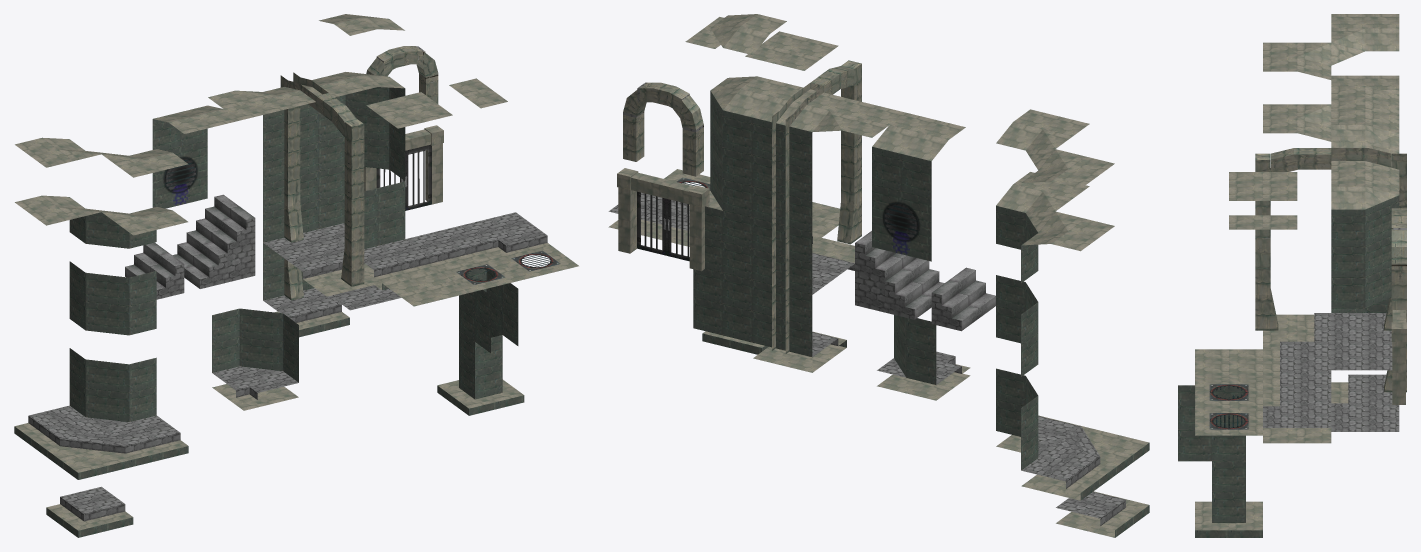
The model's file is SewerInterior_Tileset.fbx.
3 views of the same model, side by side, from view 1: azimuth 30°, elevation 25°; view 2: azimuth 150°, elevation 25°; view 3: azimuth 270°, elevation 25° (orthographic). The views are drawn at different scales.
Visible parts, largest first — view 1: sewerWalkway_cornerInside_walls, sewerWall_walkway_cornerOutsideR, stone2x2Stairs, sewerPillar_floor, sewerWall_walkway, sewerWall_walkway_cornerOutsideL, sewerPillar_walkway, sewerWall_cornerInside, sewerDrain_hole3Walls, sewerPillar_wall, sewerWall_cornerOutsideR, sewerWalkway_cornerOutside90 (+31 smaller); view 2: sewerPillar_walkway, stone2x2Stairs, sewerPillar_archWall, sewerWall_ceiling, sewerWalkway_cornerInside_walls, sewerWall_walkway_cornerOutsideL, sewerPillar_floor, stoneDoorFrame, sewerTunnel_Opening, sewerPillar_wall, sewerDrain_Wall, sewerWall_floor (+26 smaller); view 3: sewerWall_ceilingCornerInside, sewerWall_cornerInside, sewerDrain_hole3Walls, sewerWalkway_cornerInside_noWall, sewerCeiling_cornerOutsideLeft, sewerCeiling_cornerOutsideRight, sewerPillar_archWall, sewerCeiling_cornerInside, sewerWall_ceilingCornerOutsideR, sewerDrain_holeFullWalls, sewerWall_walkway, sewerWalkway_noWall (+20 smaller).
Part boxes in pixels (x1=…): sewerWalkway_cornerInside_walls: x1=212, y1=308, x2=298, y2=410; sewerWall_walkway_cornerOutsideR: x1=101, y1=357, x2=188, y2=466; stone2x2Stairs: x1=172, y1=194, x2=255, y2=288; sewerPillar_floor: x1=263, y1=171, x2=344, y2=265; sewerWall_walkway: x1=364, y1=181, x2=436, y2=290; sewerWall_walkway_cornerOutsideL: x1=14, y1=348, x2=107, y2=456; sewerPillar_walkway: x1=263, y1=243, x2=349, y2=337; sewerWall_cornerInside: x1=318, y1=107, x2=405, y2=180; sewerDrain_hole3Walls: x1=459, y1=268, x2=518, y2=352; sewerPillar_wall: x1=263, y1=114, x2=318, y2=184; sewerWall_cornerOutsideR: x1=107, y1=271, x2=156, y2=335; sewerWalkway_cornerOutside90: x1=46, y1=486, x2=133, y2=537; sewerPillar_walkway: x1=753, y1=280, x2=846, y2=372; stone2x2Stairs: x1=855, y1=231, x2=944, y2=319; sewerPillar_archWall: x1=753, y1=83, x2=846, y2=169; sewerWall_ceiling: x1=872, y1=113, x2=965, y2=198; sewerWalkway_cornerInside_walls: x1=877, y1=315, x2=970, y2=400; sewerWall_walkway_cornerOutsideL: x1=1021, y1=386, x2=1114, y2=500; sewerPillar_floor: x1=753, y1=218, x2=846, y2=294; stoneDoorFrame: x1=617, y1=168, x2=709, y2=271; sewerTunnel_Opening: x1=623, y1=82, x2=703, y2=176; sewerPillar_wall: x1=753, y1=155, x2=812, y2=232; sewerDrain_Wall: x1=872, y1=184, x2=931, y2=261; sewerWall_floor: x1=693, y1=268, x2=752, y2=342; sewerWall_ceilingCornerInside: x1=1331, y1=172, x2=1399, y2=246; sewerWall_cornerInside: x1=1331, y1=236, x2=1391, y2=308; sewerDrain_hole3Walls: x1=1178, y1=385, x2=1245, y2=461; sewerWalkway_cornerInside_noWall: x1=1263, y1=399, x2=1331, y2=443; sewerCeiling_cornerOutsideLeft: x1=1331, y1=14, x2=1399, y2=58; sewerCeiling_cornerOutsideRight: x1=1263, y1=42, x2=1347, y2=79; sewerPillar_archWall: x1=1331, y1=145, x2=1406, y2=207; sewerCeiling_cornerInside: x1=1331, y1=110, x2=1399, y2=147; sewerWall_ceilingCornerOutsideR: x1=1263, y1=104, x2=1331, y2=141; sewerDrain_holeFullWalls: x1=1212, y1=461, x2=1245, y2=522; sewerWall_walkway: x1=1263, y1=341, x2=1331, y2=378; sewerWalkway_noWall: x1=1263, y1=370, x2=1331, y2=406.
Size of the model in its own units: 1700 by 1400 by 673.
